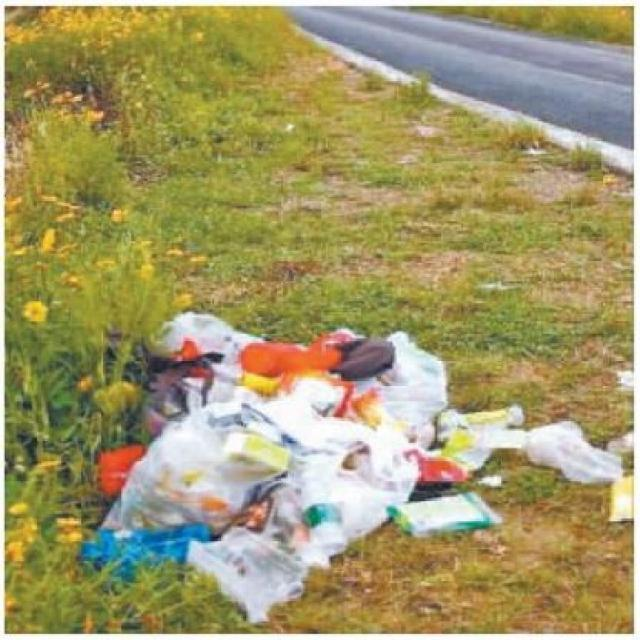garbage: (112, 296, 468, 595), (457, 412, 630, 528)
